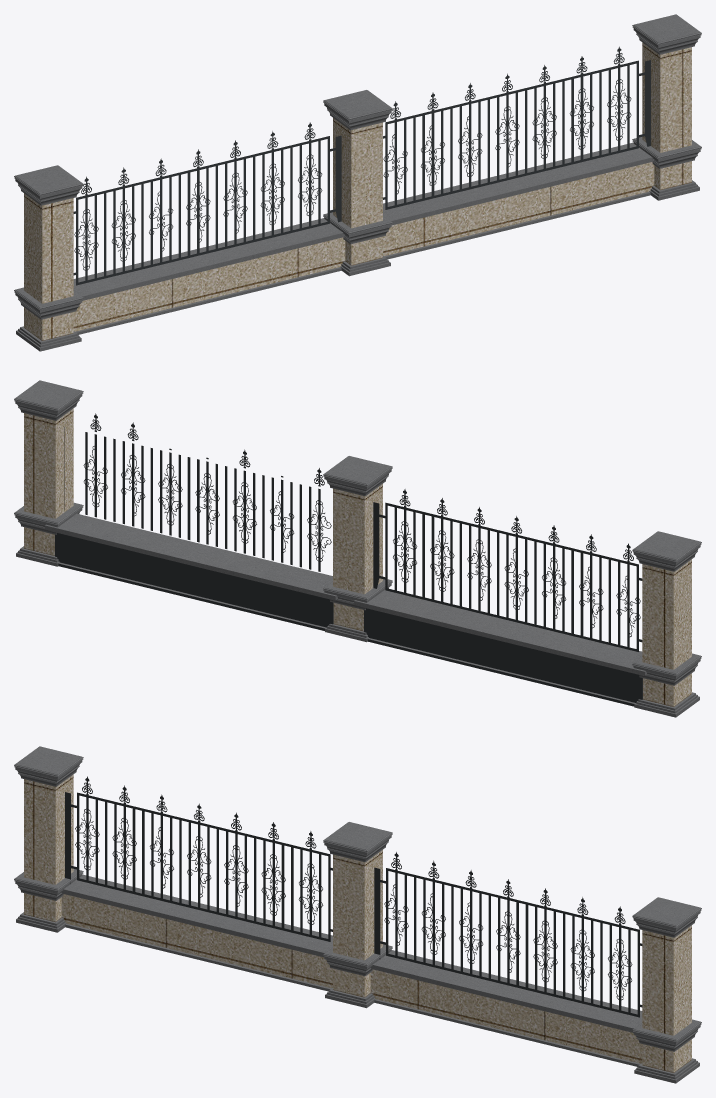
3 views of the same model, one above another, from view 1: azimuth 30°, elevation 25°; view 2: azimuth 150°, elevation 25°; view 3: azimuth 330°, elevation 25° (orthographic).
Parts seen in each view (by area): view 1: 围墙18; view 2: 围墙18; view 3: 围墙18.
Part boxes in pixels (x1,y1,x2,y2): 围墙18: (14, 14, 701, 351); 围墙18: (14, 380, 701, 717); 围墙18: (14, 746, 701, 1083).
Bounding box in the file's own units: 7.72 × 1.77 × 0.5273.
3 materials, 2 textured.
